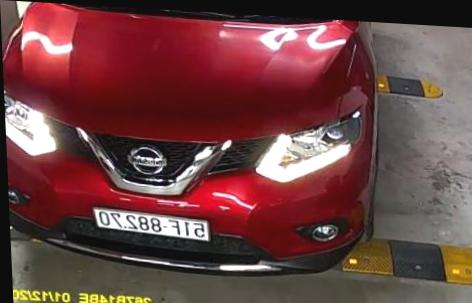License_Plate: (95, 206, 219, 243)
